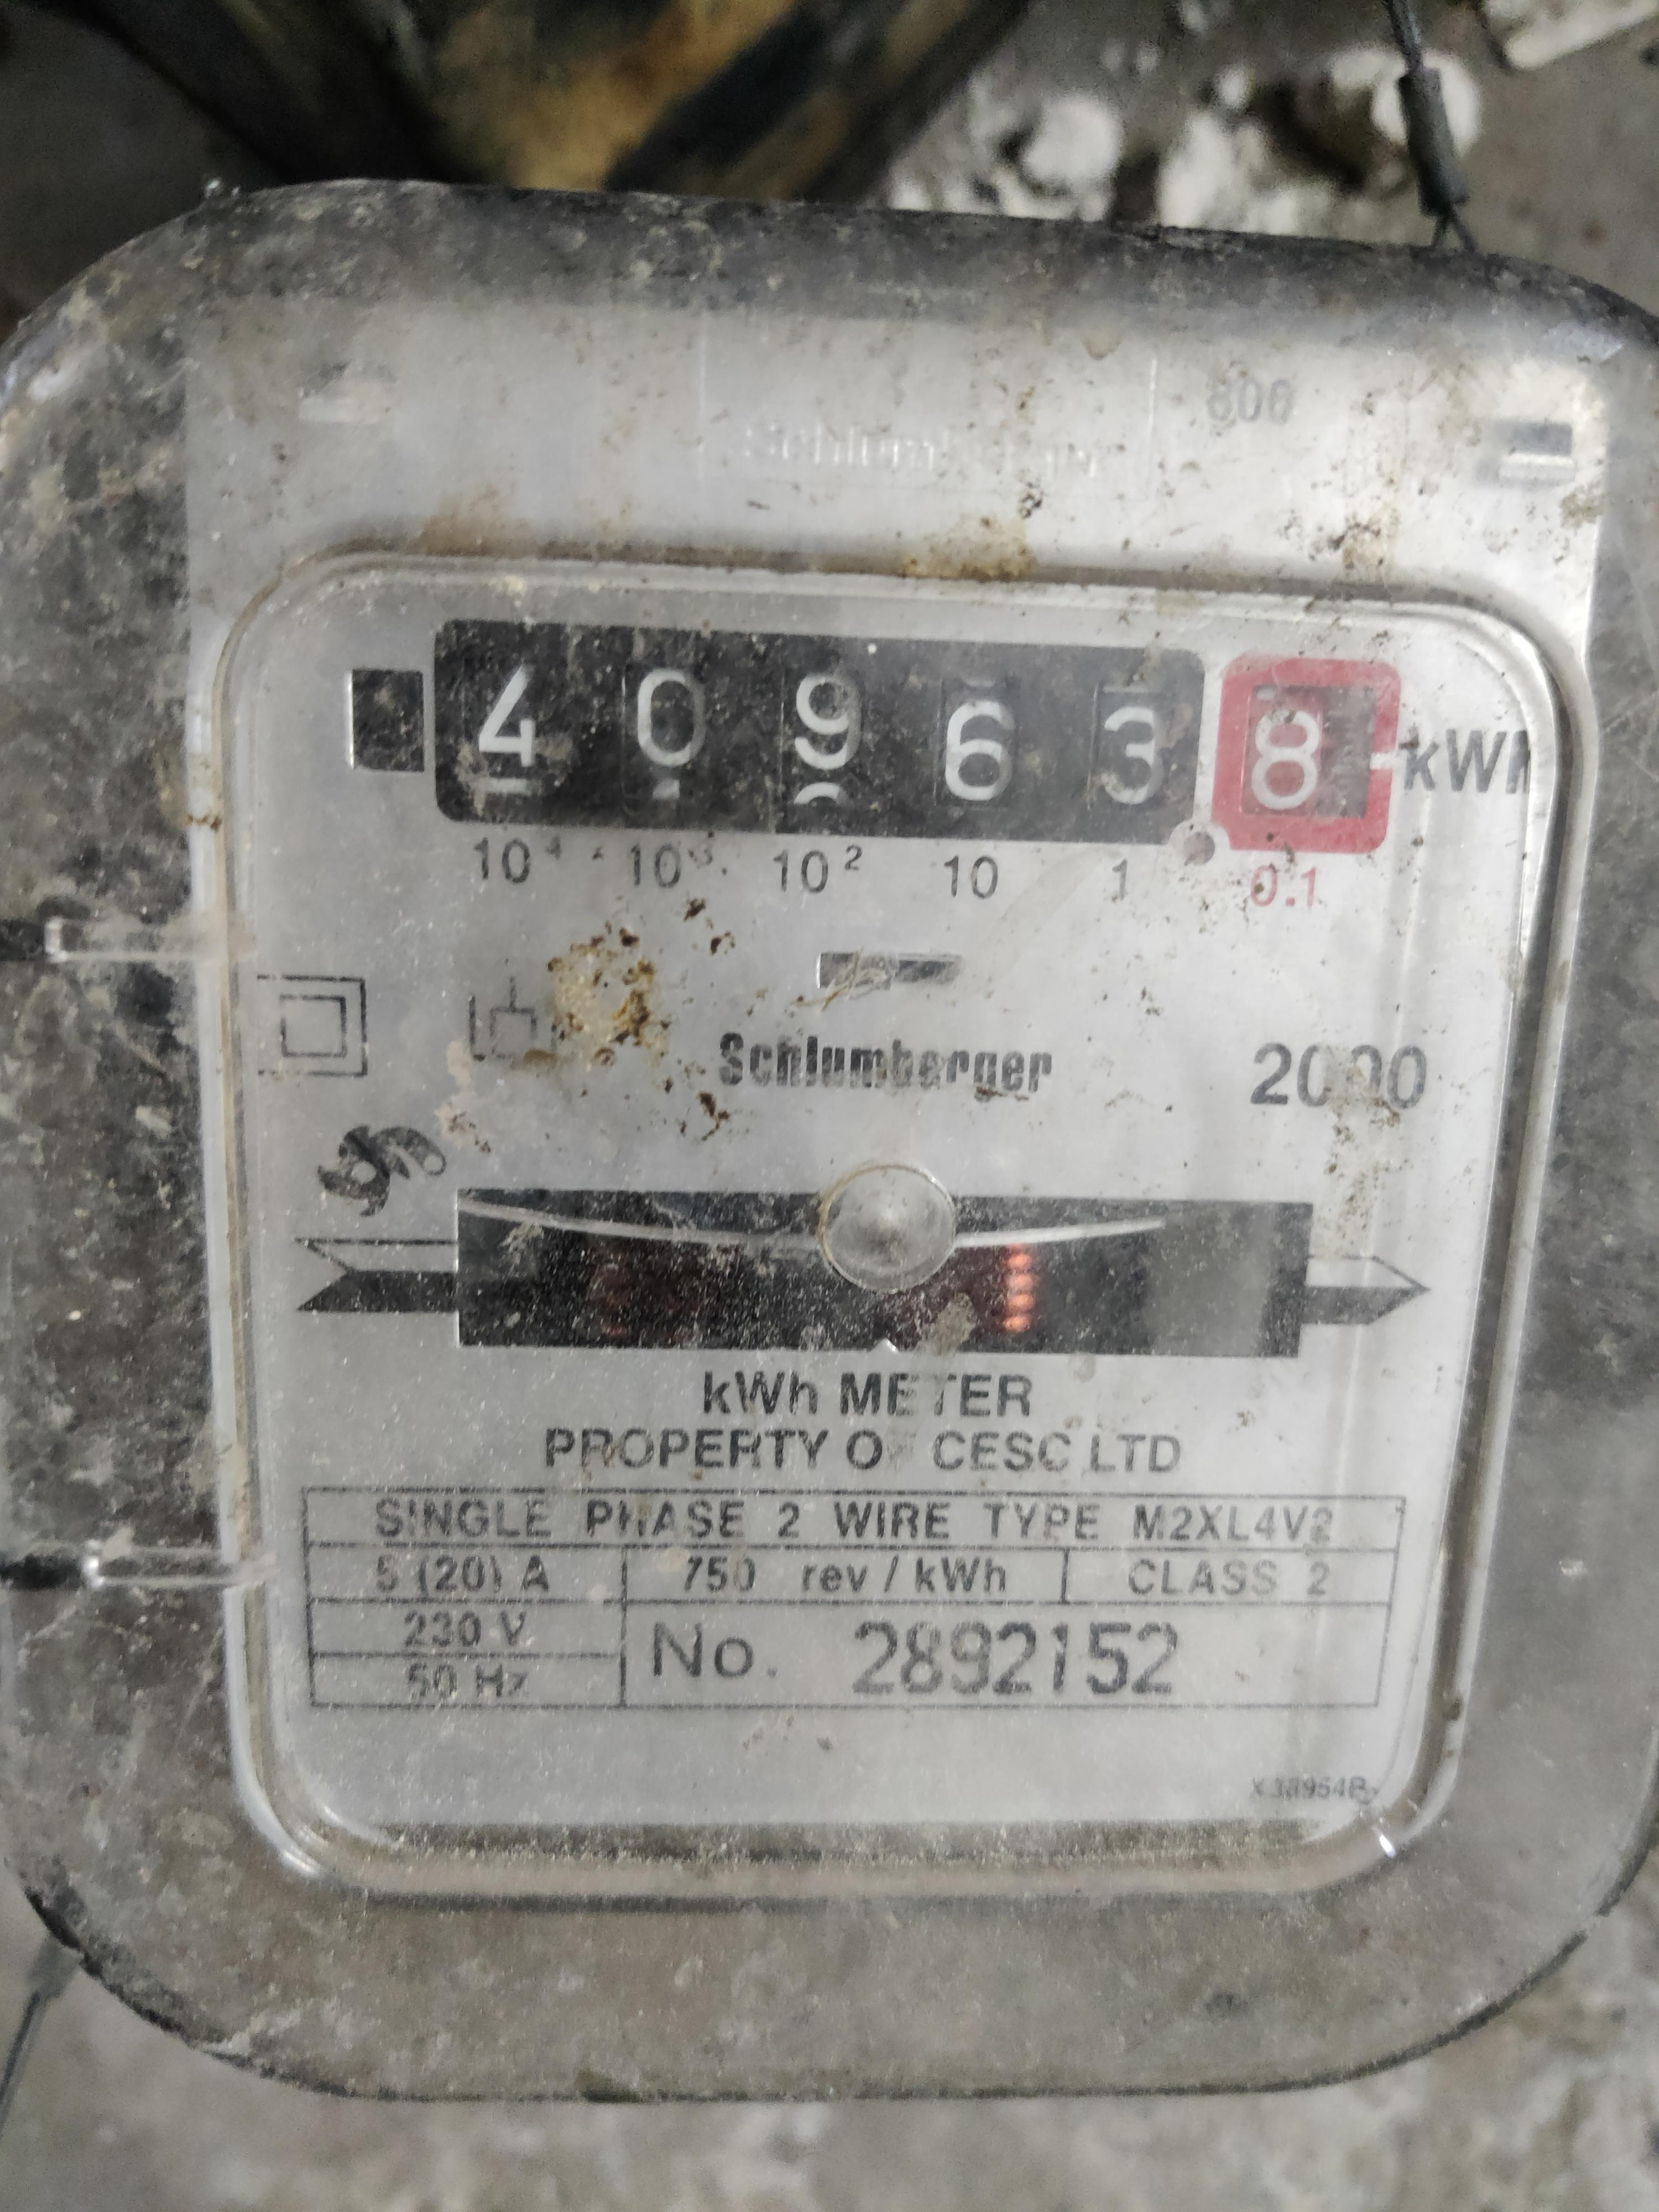meter_readings: (443, 655, 1389, 841)
serial_number: (833, 1606, 1215, 1714)
